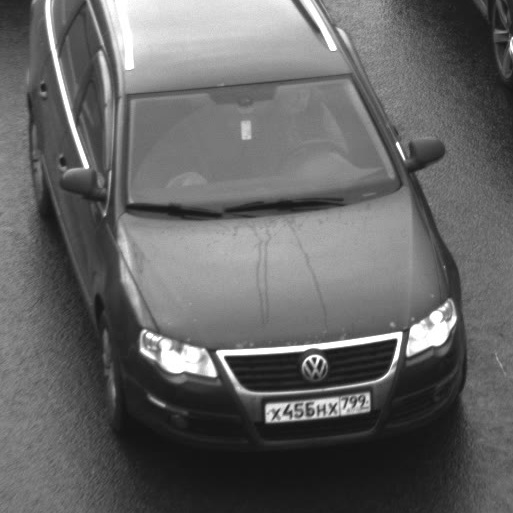plate: (256, 380, 379, 431)
